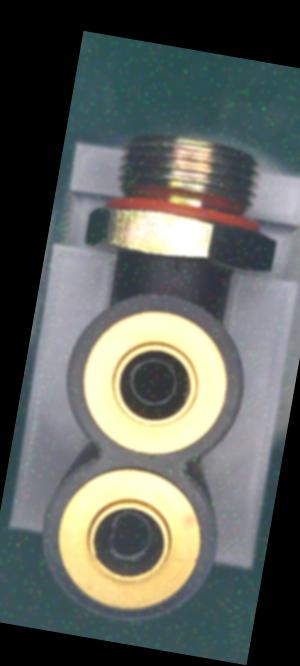craze: (163, 250, 186, 282)
off-centered: (96, 503, 164, 573)
